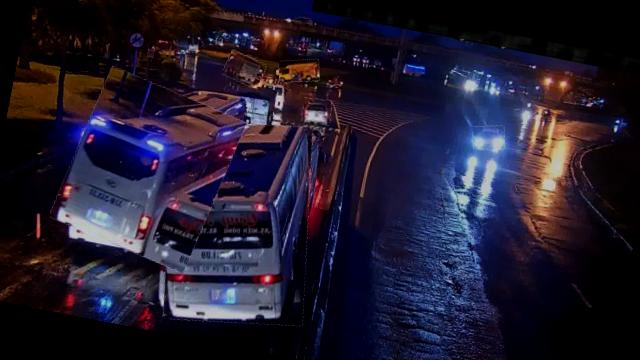Bus: (144, 107, 333, 339), (51, 68, 243, 270), (276, 53, 322, 87)
Car: (470, 121, 508, 154), (300, 96, 334, 126)
Truck: (221, 50, 267, 87)
